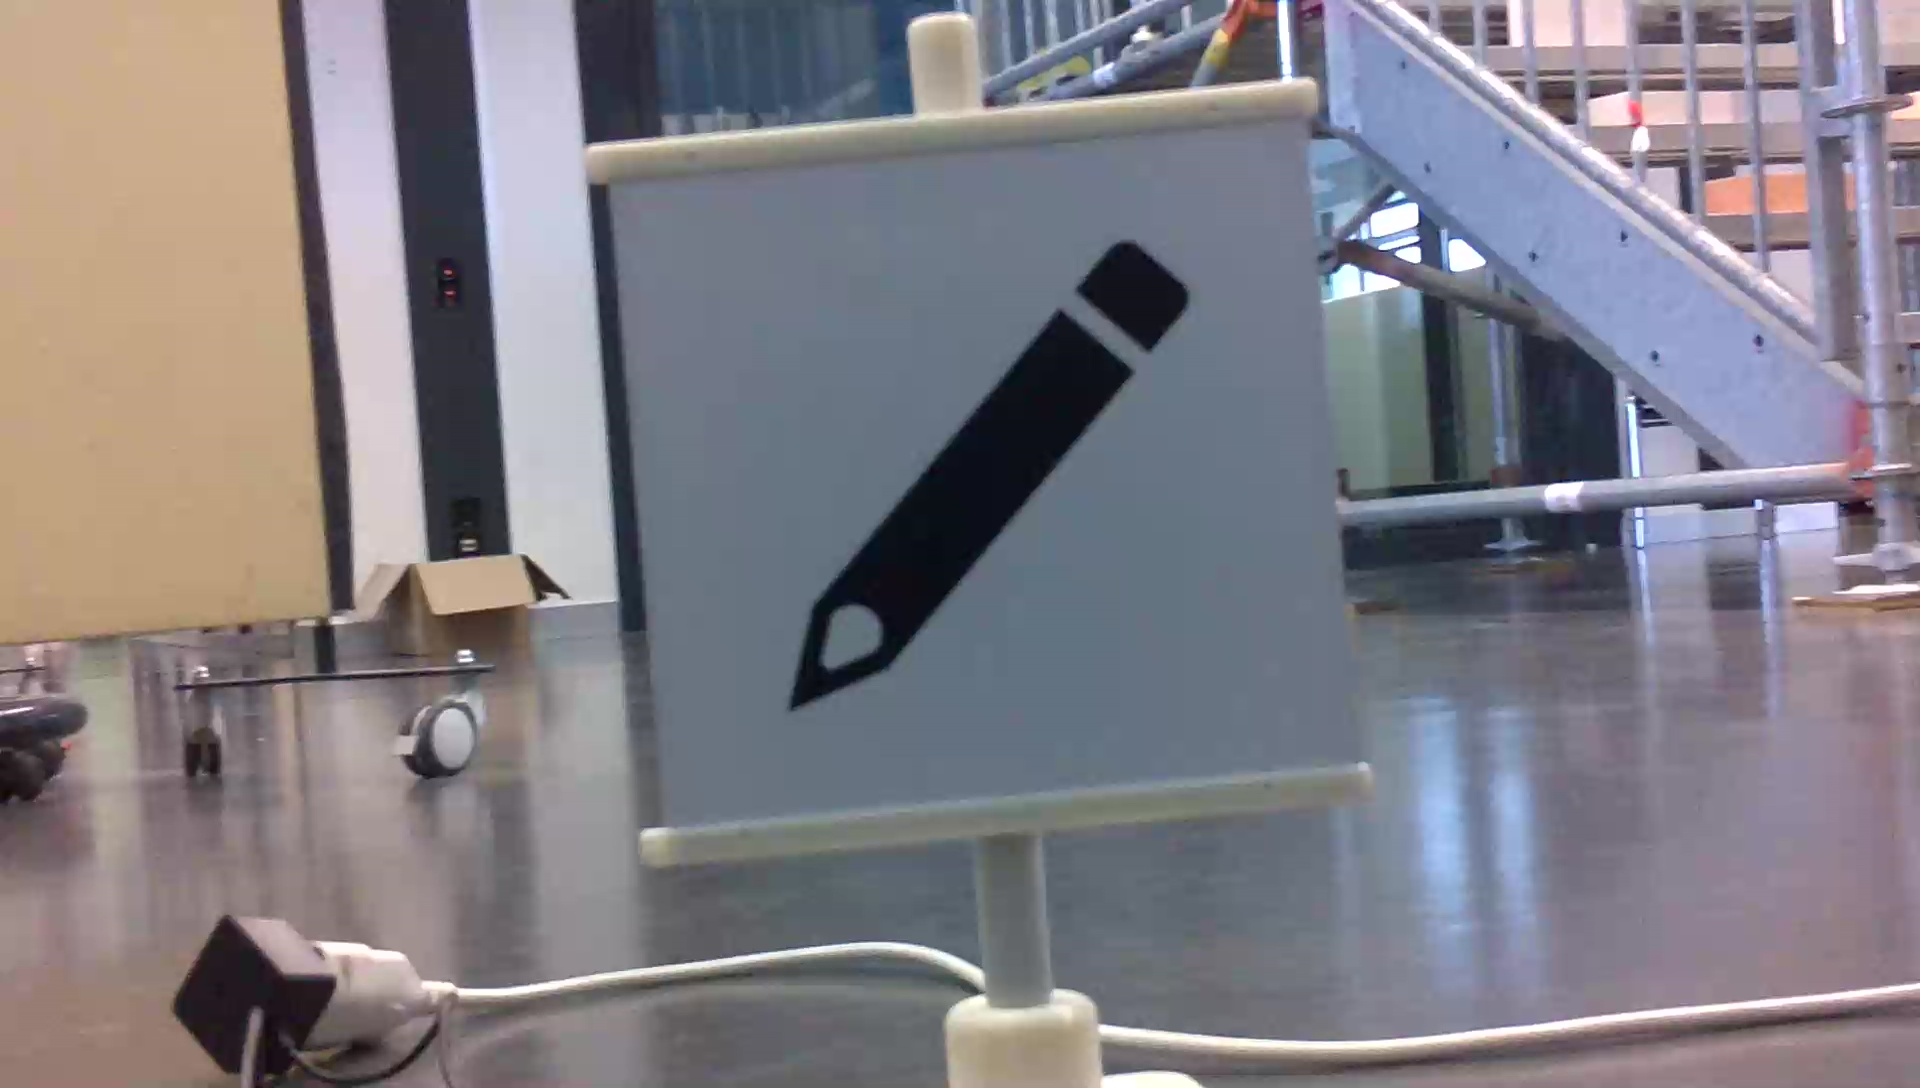pencil: (771, 226, 1208, 720)
